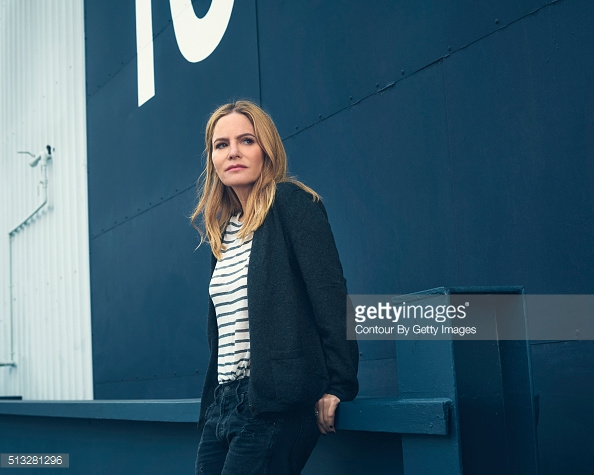em pe: (166, 93, 351, 475)
